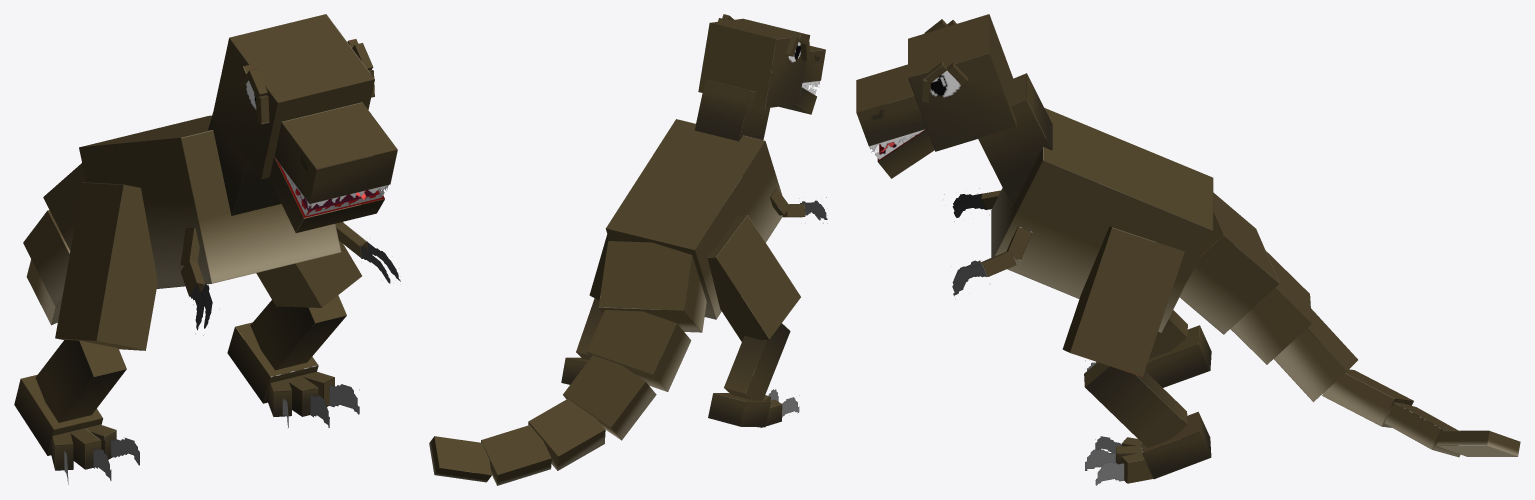
Rendered from animateddinosaur5.obj.
3 renders of one model, left to right at view 1: azimuth 30°, elevation 25°; view 2: azimuth 150°, elevation 25°; view 3: azimuth 270°, elevation 25°, orthographic. The views are drawn at different scales.
Parts seen in each view (by area): view 1: Object_6, Object_64, Object_9, Object_56, Object_12, Object_34, Object_31, Object_53, Object_79, Object_37, Object_95, Object_15 (+14 smaller); view 2: Object_6, Object_92, Object_9, Object_64, Object_95, Object_98, Object_53, Object_101, Object_104, Object_12, Object_107, Object_15 (+5 smaller); view 3: Object_6, Object_31, Object_64, Object_92, Object_34, Object_53, Object_95, Object_56, Object_98, Object_101, Object_37, Object_15 (+5 smaller).
Part boxes in pixels (bbox=[...]): Object_6: bbox=[79, 115, 341, 288]; Object_64: bbox=[213, 14, 374, 179]; Object_9: bbox=[55, 182, 157, 350]; Object_56: bbox=[274, 102, 397, 203]; Object_12: bbox=[35, 340, 126, 422]; Object_34: bbox=[250, 295, 346, 370]; Object_31: bbox=[256, 241, 361, 307]; Object_53: bbox=[207, 113, 281, 215]; Object_79: bbox=[269, 157, 384, 232]; Object_37: bbox=[227, 322, 318, 403]; Object_95: bbox=[23, 210, 70, 307]; Object_15: bbox=[14, 374, 103, 455]; Object_6: bbox=[605, 119, 782, 319]; Object_92: bbox=[598, 241, 706, 332]; Object_9: bbox=[707, 215, 800, 341]; Object_64: bbox=[698, 18, 810, 108]; Object_95: bbox=[586, 310, 691, 391]; Object_98: bbox=[563, 355, 656, 440]; Object_53: bbox=[694, 80, 770, 141]; Object_101: bbox=[528, 399, 605, 470]; Object_104: bbox=[481, 425, 551, 485]; Object_12: bbox=[724, 323, 790, 400]; Object_107: bbox=[429, 436, 491, 482]; Object_15: bbox=[708, 393, 770, 427]; Object_6: bbox=[991, 108, 1213, 332]; Object_31: bbox=[1062, 226, 1184, 376]; Object_64: bbox=[908, 14, 1016, 151]; Object_92: bbox=[1179, 192, 1279, 334]; Object_34: bbox=[1084, 362, 1187, 447]; Object_53: bbox=[978, 73, 1052, 206]; Object_95: bbox=[1230, 251, 1311, 364]; Object_56: bbox=[856, 64, 926, 146]; Object_98: bbox=[1274, 308, 1357, 401]; Object_101: bbox=[1322, 369, 1413, 427]; Object_37: bbox=[1141, 411, 1211, 479]; Object_15: bbox=[1145, 325, 1211, 387].
Bounding box in the file's own units: 2.34 × 3.48 × 5.33.
